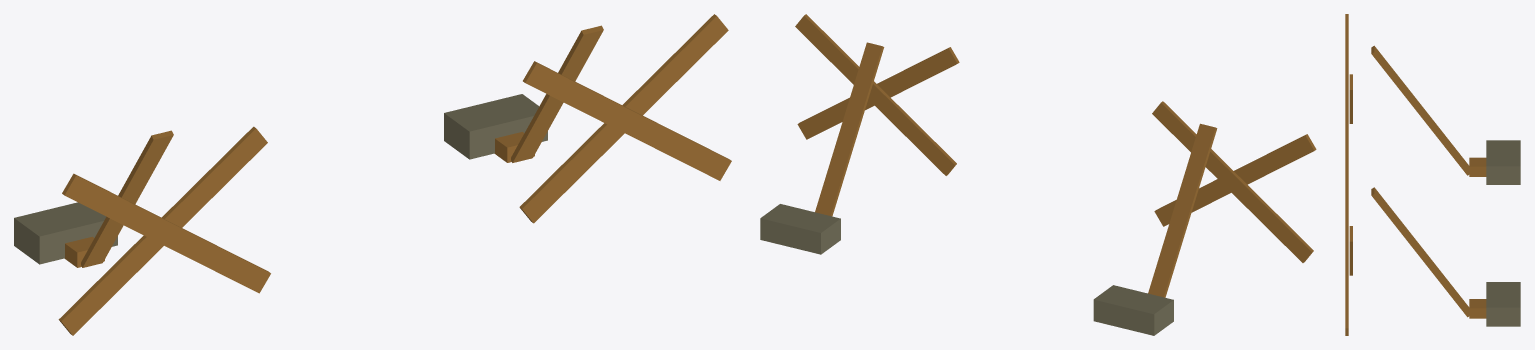
File: SM_ObraPuertaApuntalada_v4_10m_LOD0.fbx
The picture shows the model from 3 angles, left to right: view 1: azimuth 30°, elevation 25°; view 2: azimuth 150°, elevation 25°; view 3: azimuth 270°, elevation 25°; orthographic projection. The views are drawn at different scales.
Parts seen in each view (by area): view 1: SM_obra_curso_v39_LOD0; view 2: SM_obra_curso_v39_LOD0; view 3: SM_obra_curso_v39_LOD0.
Boxes of the visible parts, x1,y1,x2,y2 form: SM_obra_curso_v39_LOD0: (14, 14, 731, 335); SM_obra_curso_v39_LOD0: (760, 14, 1316, 335); SM_obra_curso_v39_LOD0: (1345, 14, 1520, 335).
Size of the model in its own units: 7.24 by 1.9 by 2.44.
